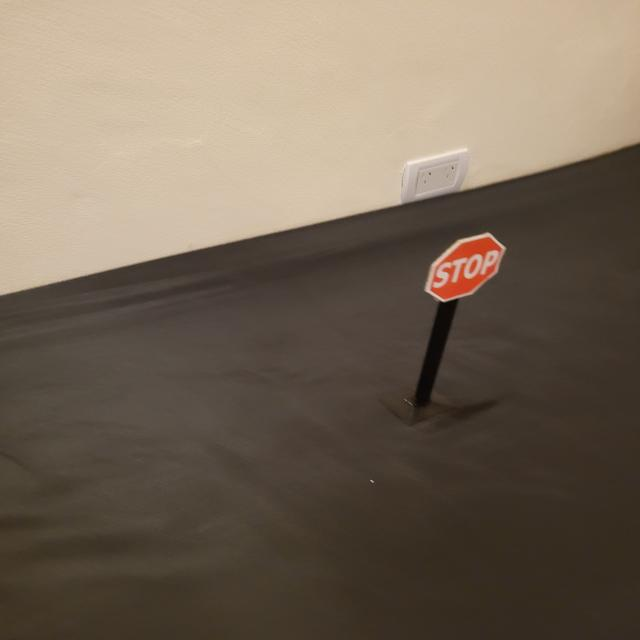stop: (424, 232, 507, 302)
